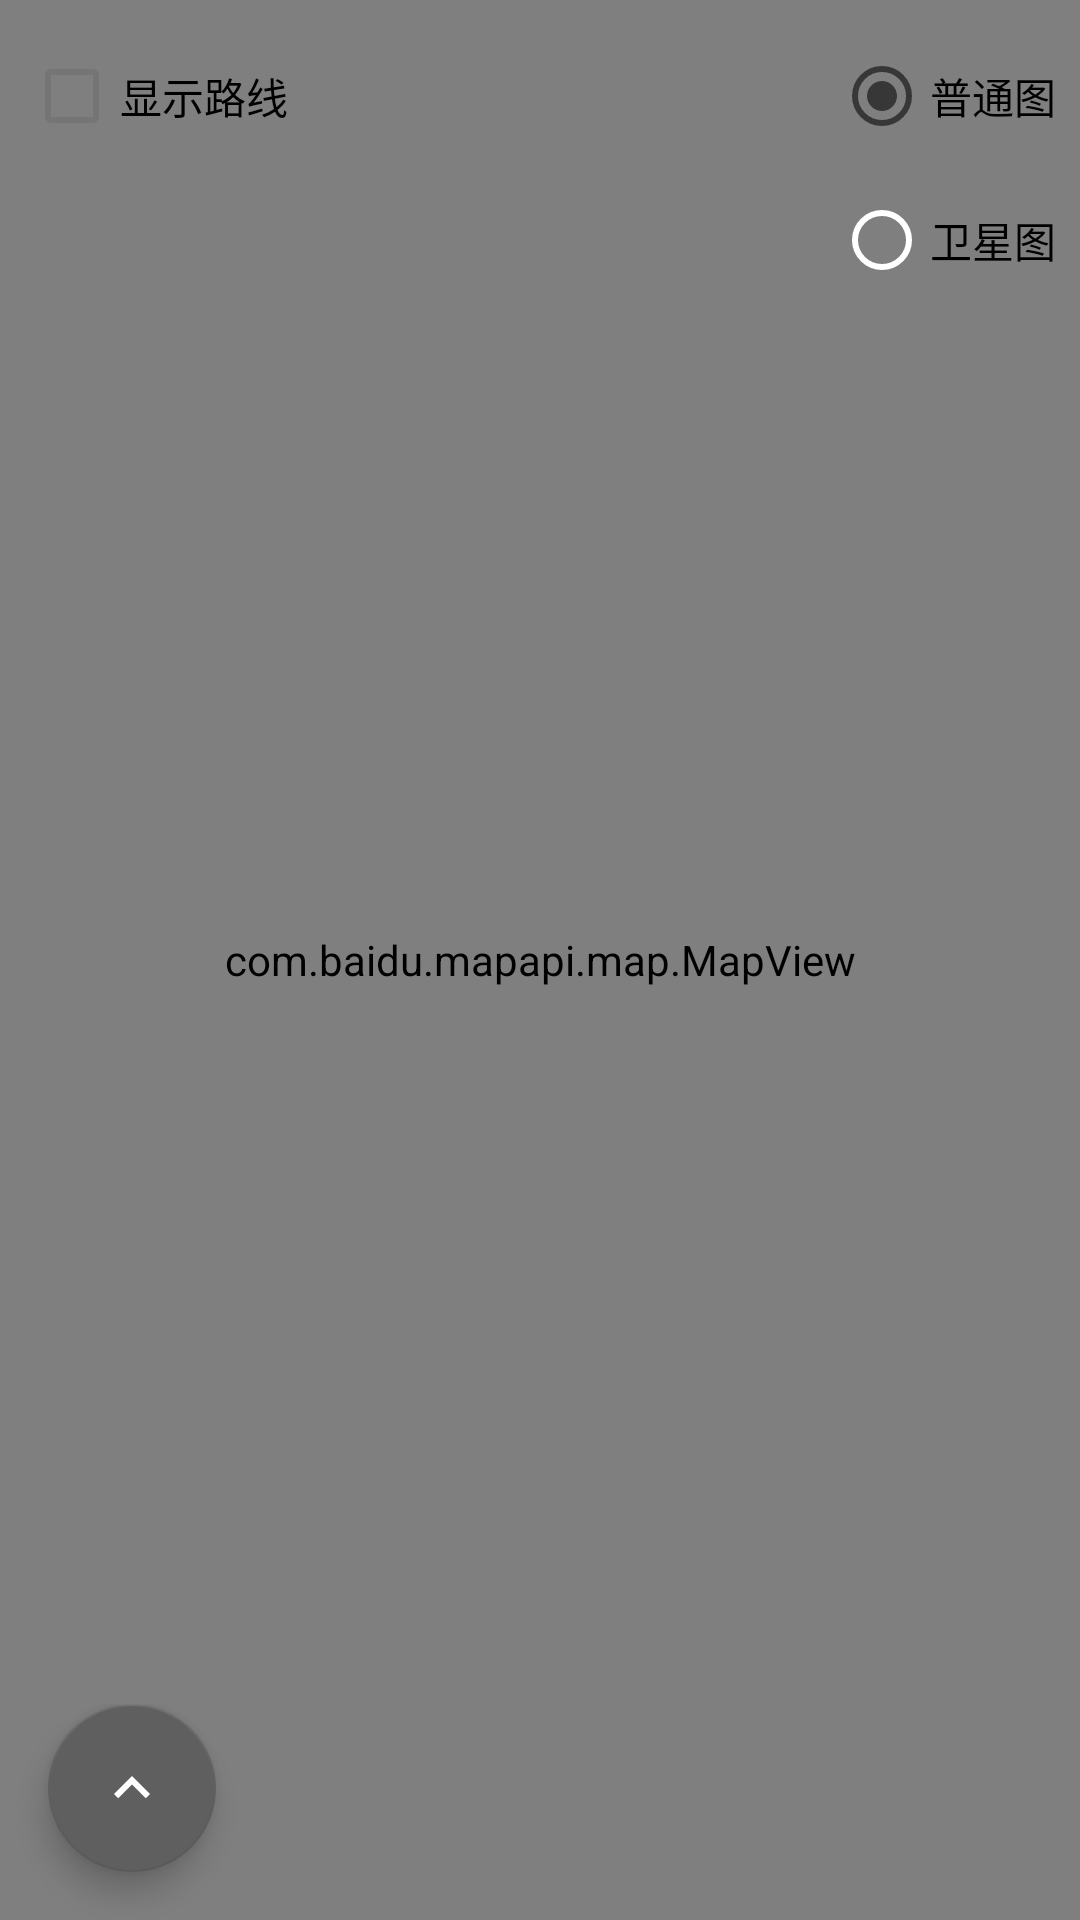

Named icons in this screenshot (1080×1920) and their centers, point (x, y):
keyboard arrow up: point (132, 1789)
